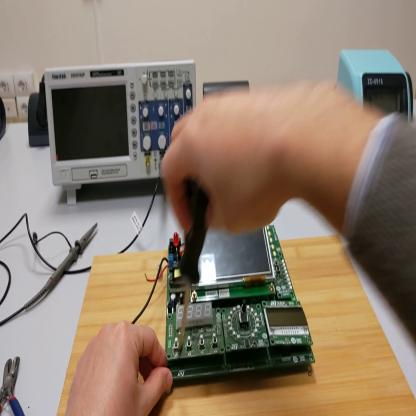hand: (161, 89, 295, 239), (66, 321, 171, 416)
low voltage board: (132, 227, 314, 381)
oscilloscope: (44, 60, 197, 205)
oscilloscope probe tip: (24, 222, 98, 313)
pliers: (2, 357, 26, 414)
screwdriver-: (178, 187, 210, 361)
socket: (28, 94, 51, 147), (1, 95, 8, 146)
welder station: (337, 52, 412, 128)
working area: (59, 233, 416, 414)
